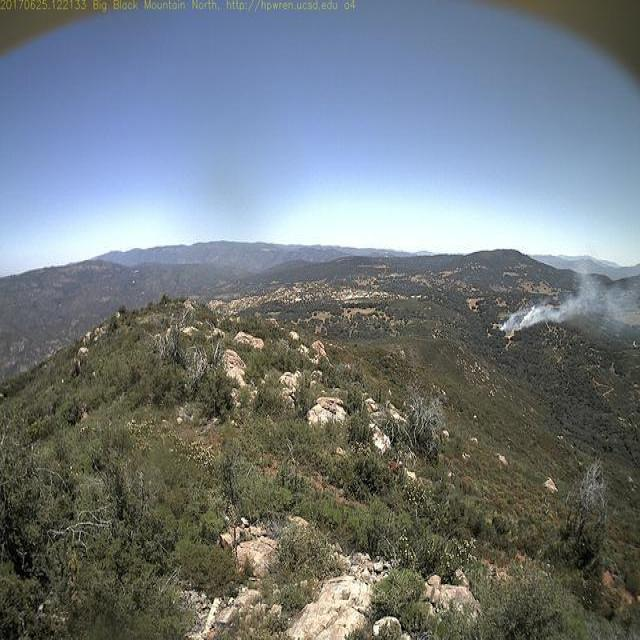smoke: (493, 258, 637, 338)
